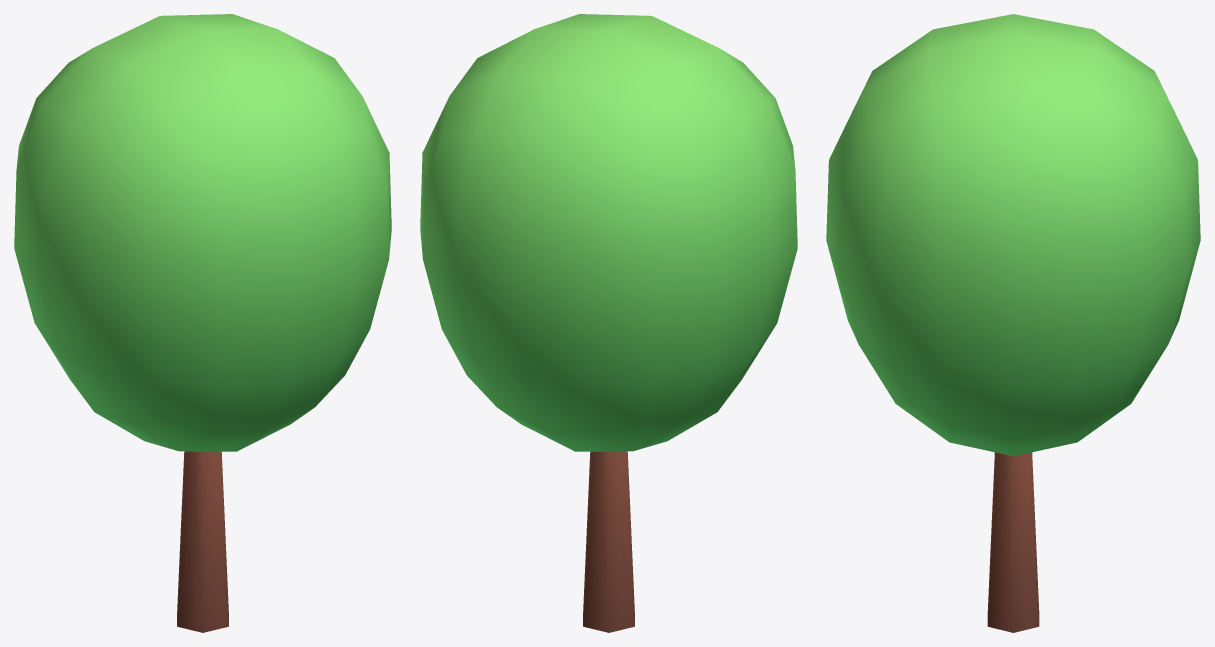
Rendered from city2-tree-05.glb.
The picture shows the model from 3 angles, left to right: view 1: azimuth 30°, elevation 25°; view 2: azimuth 150°, elevation 25°; view 3: azimuth 270°, elevation 25°; orthographic projection.
Visible parts, largest first — view 1: Tree_05; view 2: Tree_05; view 3: Tree_05.
Boxes of the visible parts, <box> form: Tree_05: <box>14,14,391,632</box>; Tree_05: <box>420,14,797,632</box>; Tree_05: <box>826,14,1200,632</box>.
Bounding box in the file's own units: 3.56 × 6.13 × 3.56.
Materials: 1 (1 with a texture image).
